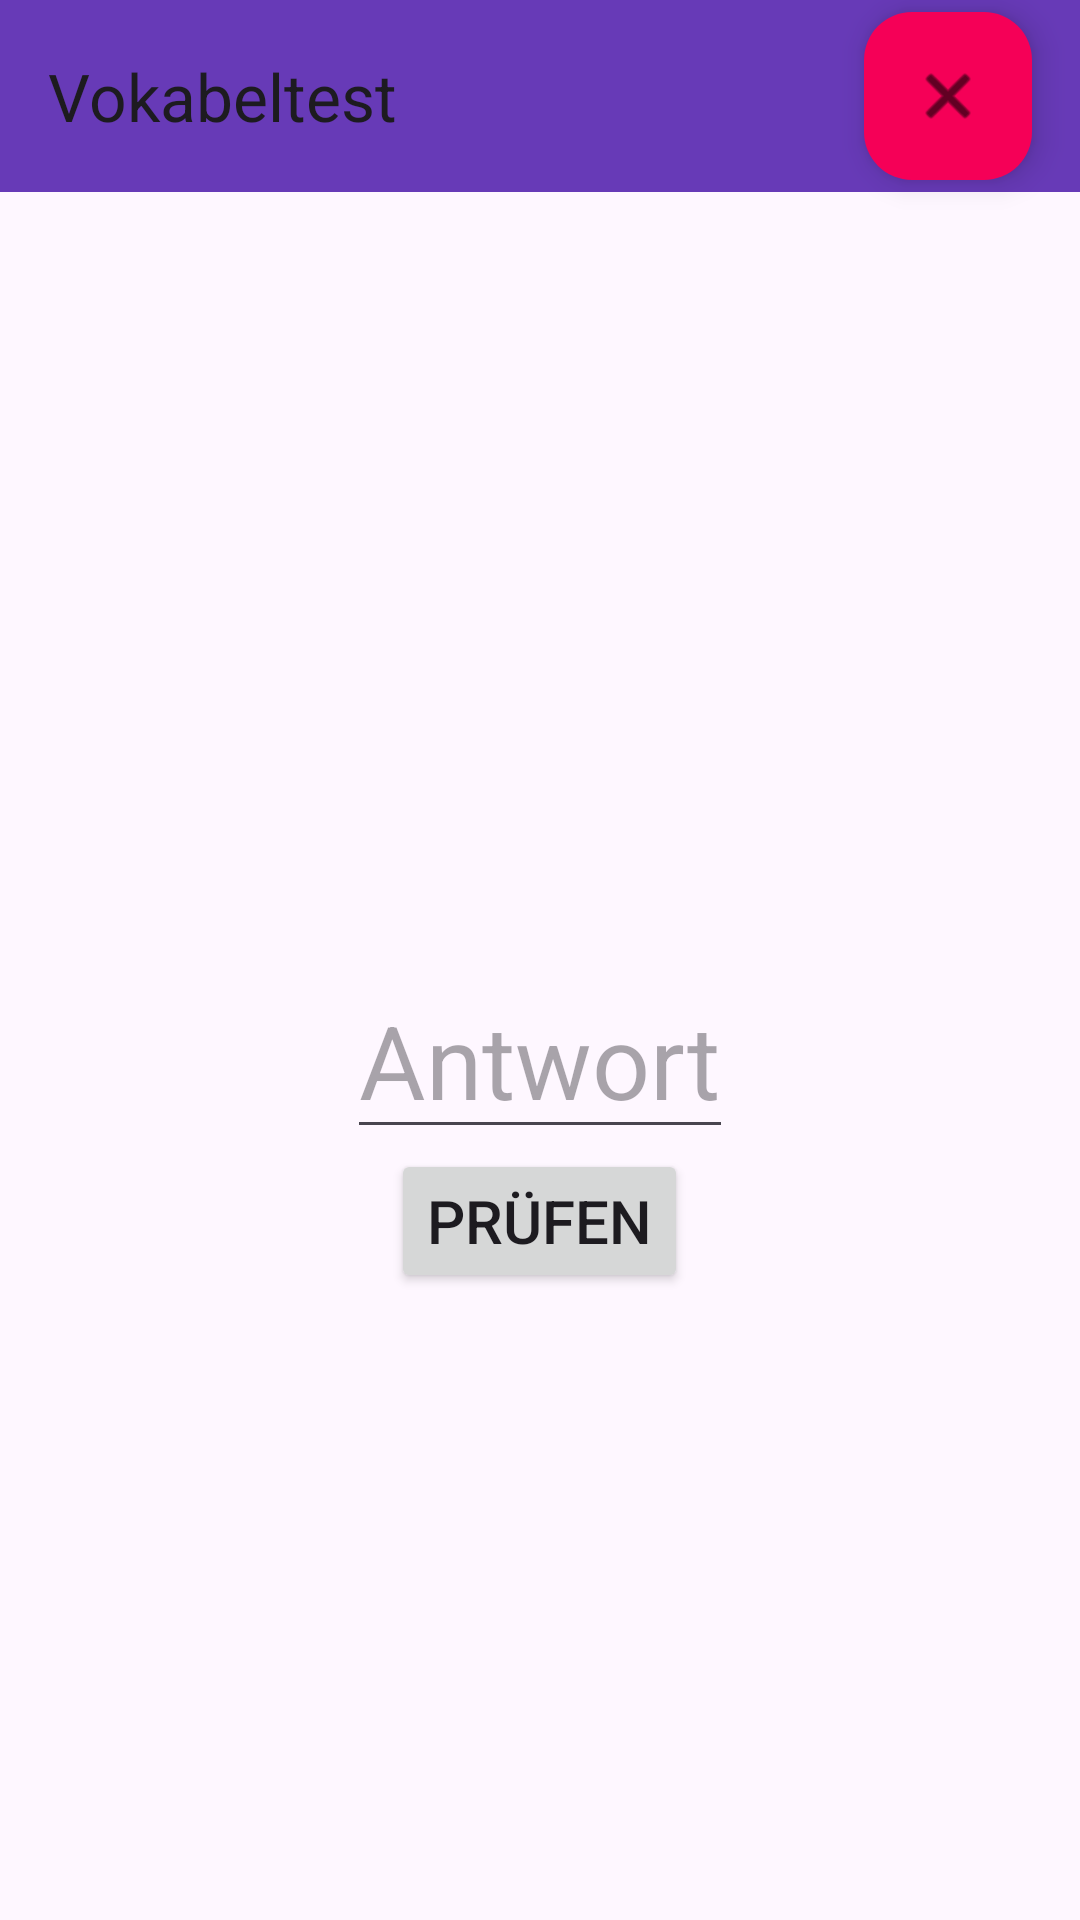

Screen size 1080×1920. Icon name, then its box in pixels as bbox=[x1, y1, x2, y2]:
Test abbrechen: bbox=[864, 12, 1032, 180]
